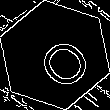O_NW: (21, 22, 89, 88)
